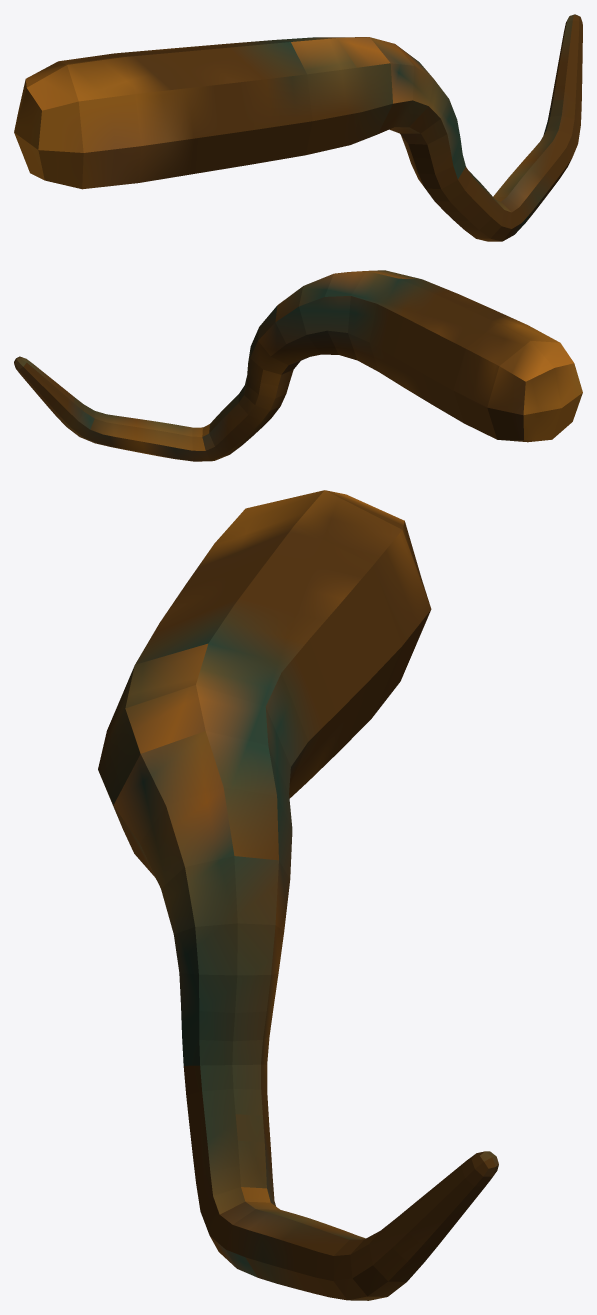
File: World_tree_roots_3.fbx
3 renders of one model, top to bottom at view 1: azimuth 30°, elevation 25°; view 2: azimuth 150°, elevation 25°; view 3: azimuth 270°, elevation 25°, orthographic. The views are drawn at different scales.
Visible parts, largest first — view 1: Plane.001; view 2: Plane.001; view 3: Plane.001.
Boxes of the visible parts, x1,y1,x2,y2 form: Plane.001: [14, 14, 582, 241]; Plane.001: [14, 270, 582, 461]; Plane.001: [98, 490, 498, 1300].
Size of the model in its own units: 1385 by 568 by 468.
